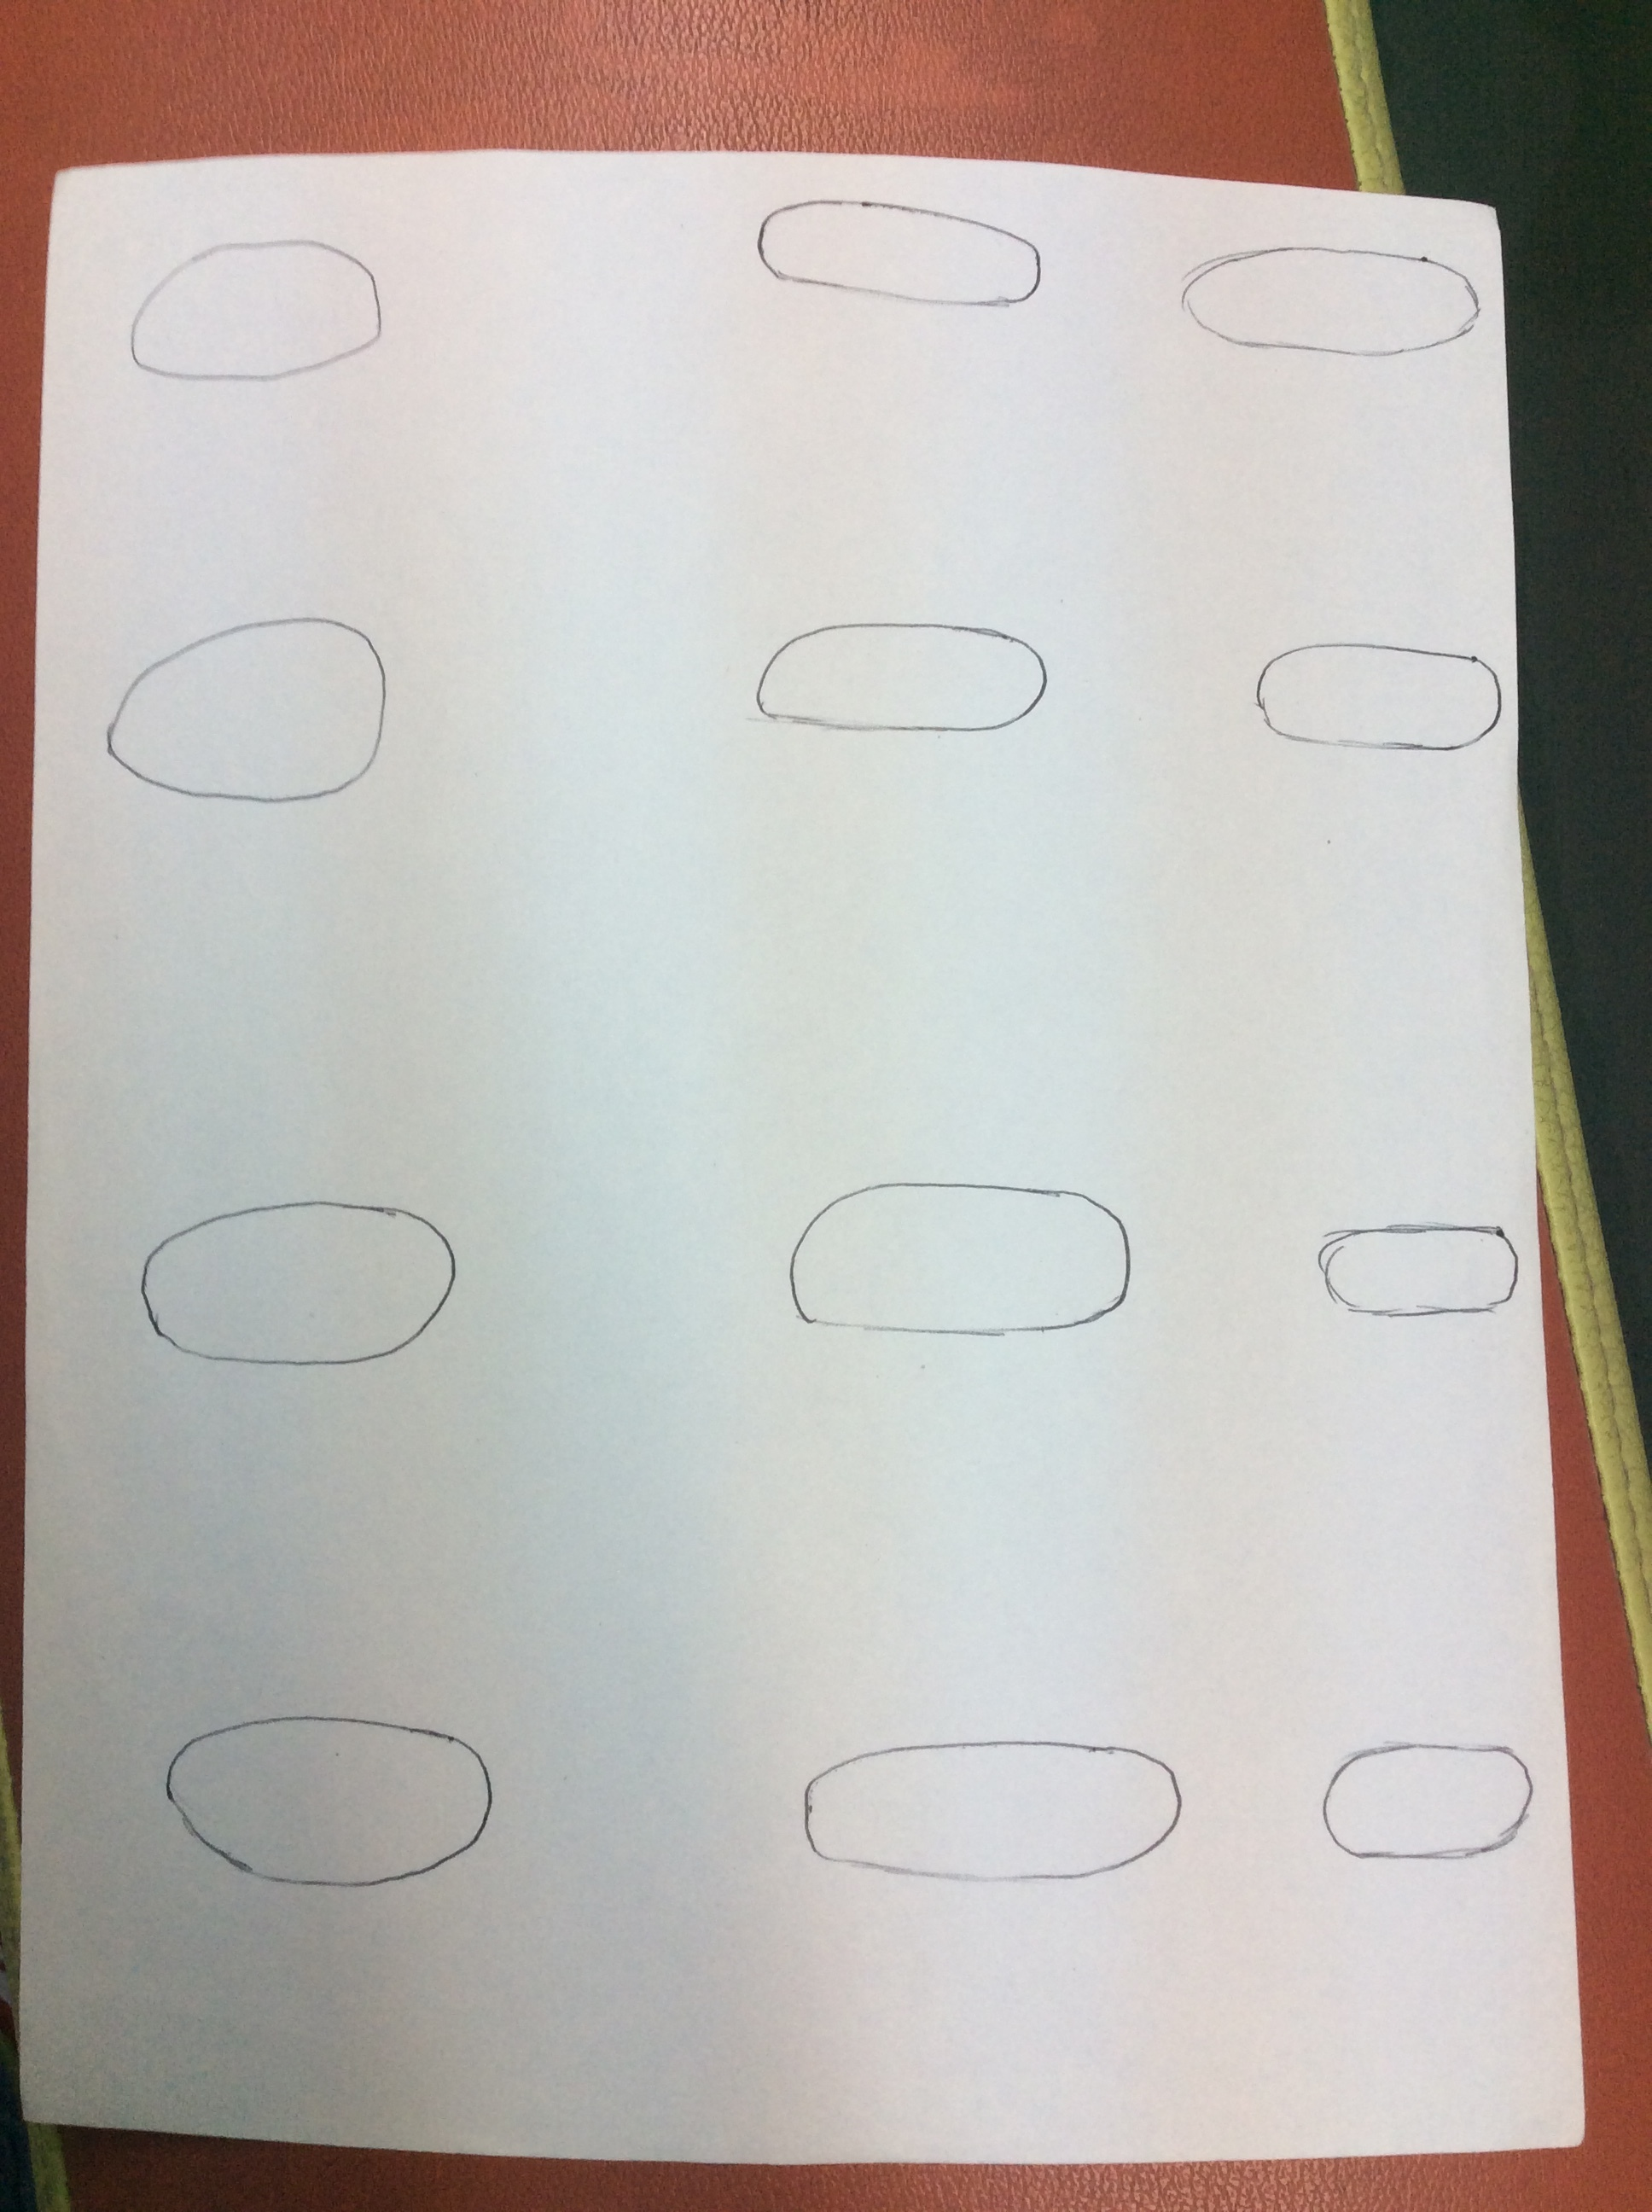start_end: (750, 1700, 1196, 1933), (760, 1154, 1149, 1379), (121, 1697, 510, 1915), (69, 593, 415, 836), (118, 1175, 486, 1393), (1138, 212, 1491, 420), (729, 578, 1064, 765), (725, 170, 1057, 356), (104, 219, 401, 423), (1223, 593, 1506, 802), (1289, 1181, 1527, 1365), (1305, 1718, 1551, 1895)
